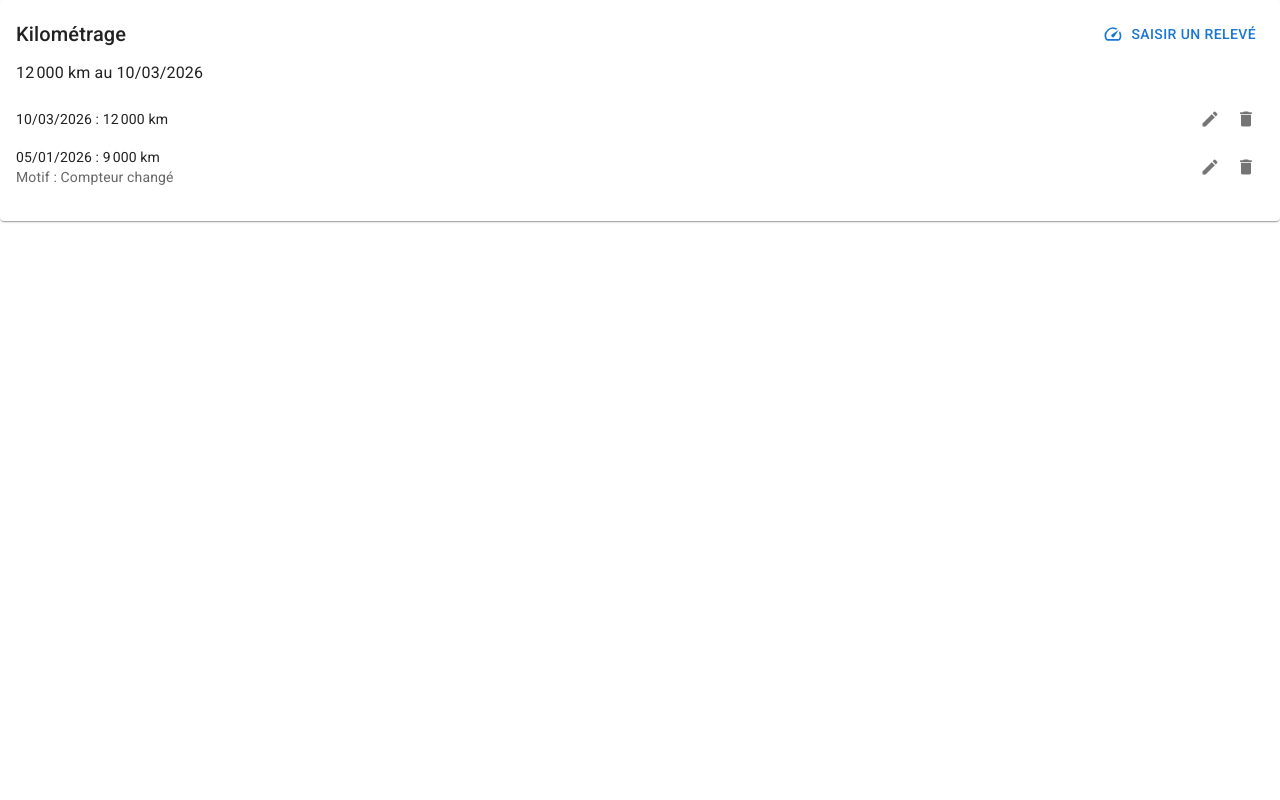
Test: VehicleMileage : correction des relevés › exige un motif en modification quand l'API le demande
Step 1. Click the button named "Modifier le relevé du 10/03/2026" → {"x": 1210, "y": 118}, box [1192,100,1228,136]
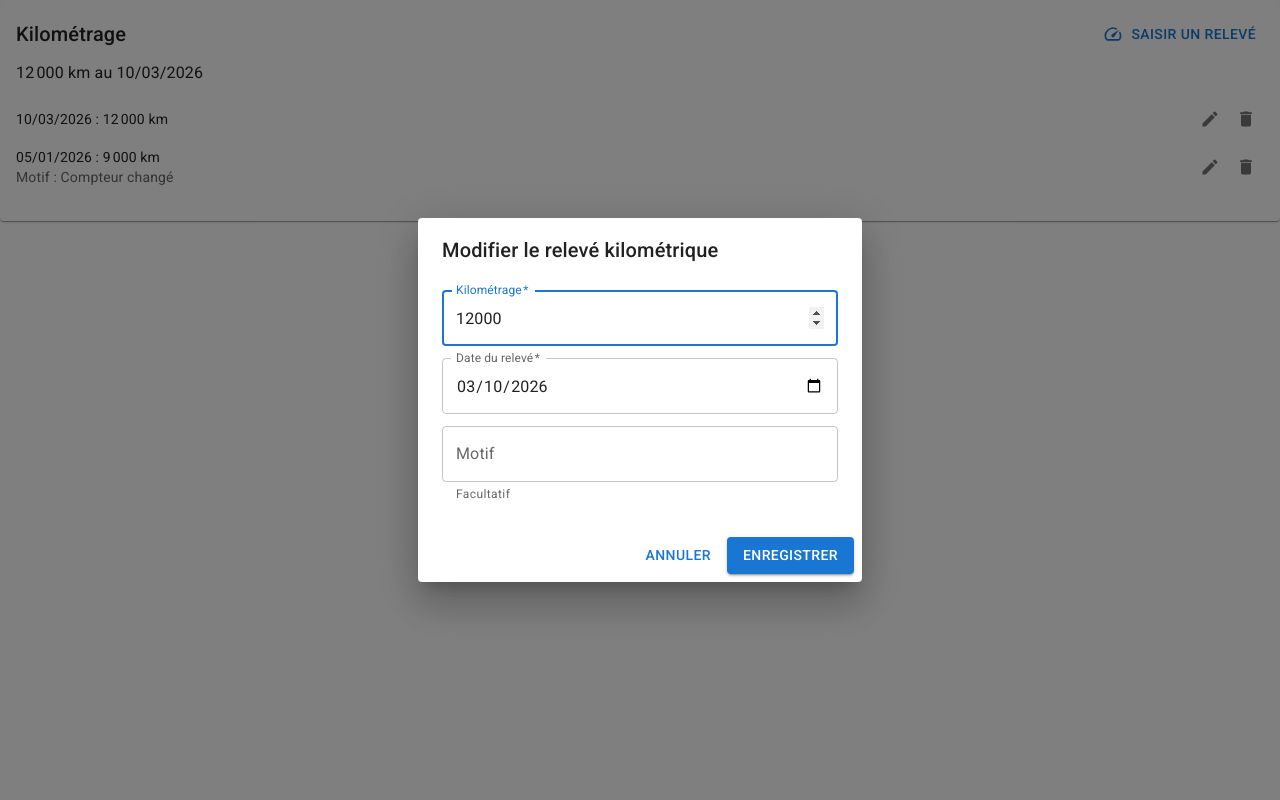
Step 2. Replace the text in the number field labelled "Kilométrage *" with "100" → {"x": 640, "y": 318}, box [442,290,838,346]
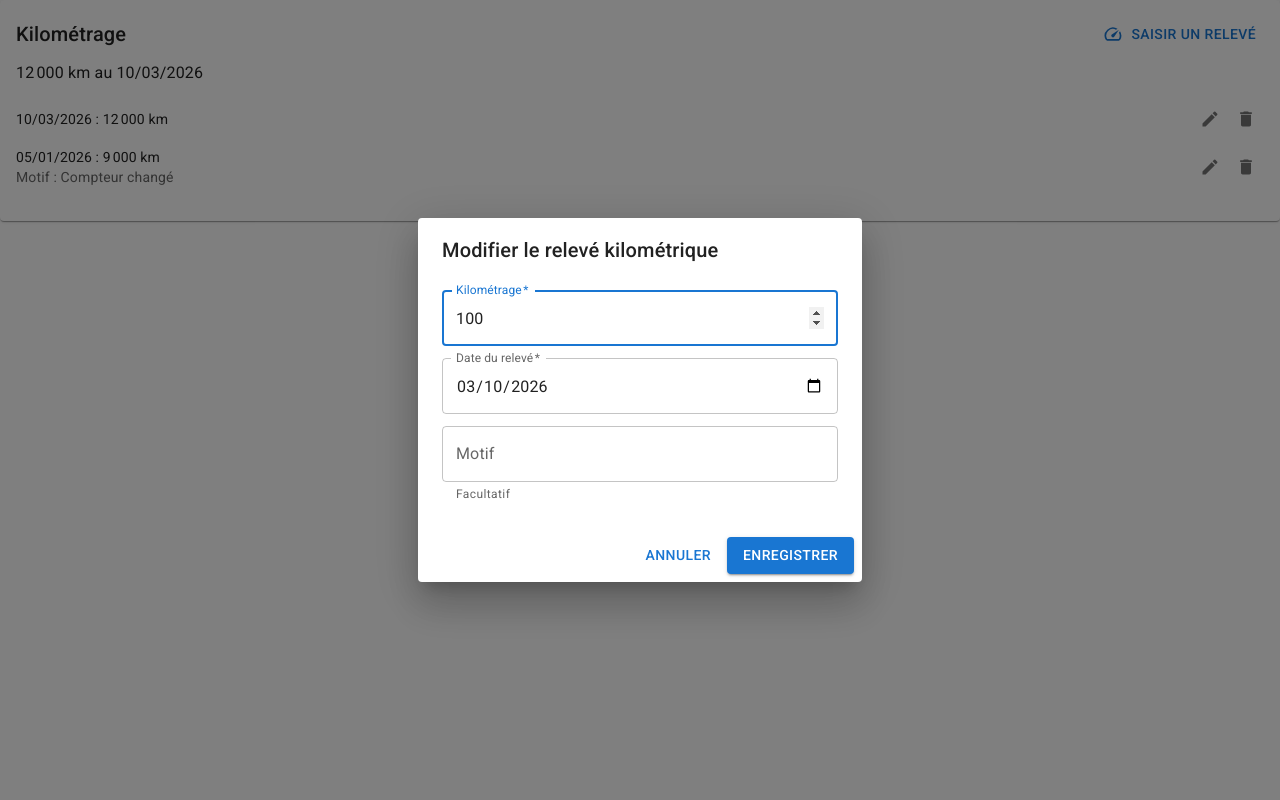
Step 3. Click the button "Enregistrer" → {"x": 790, "y": 555}, box [727,537,854,574]
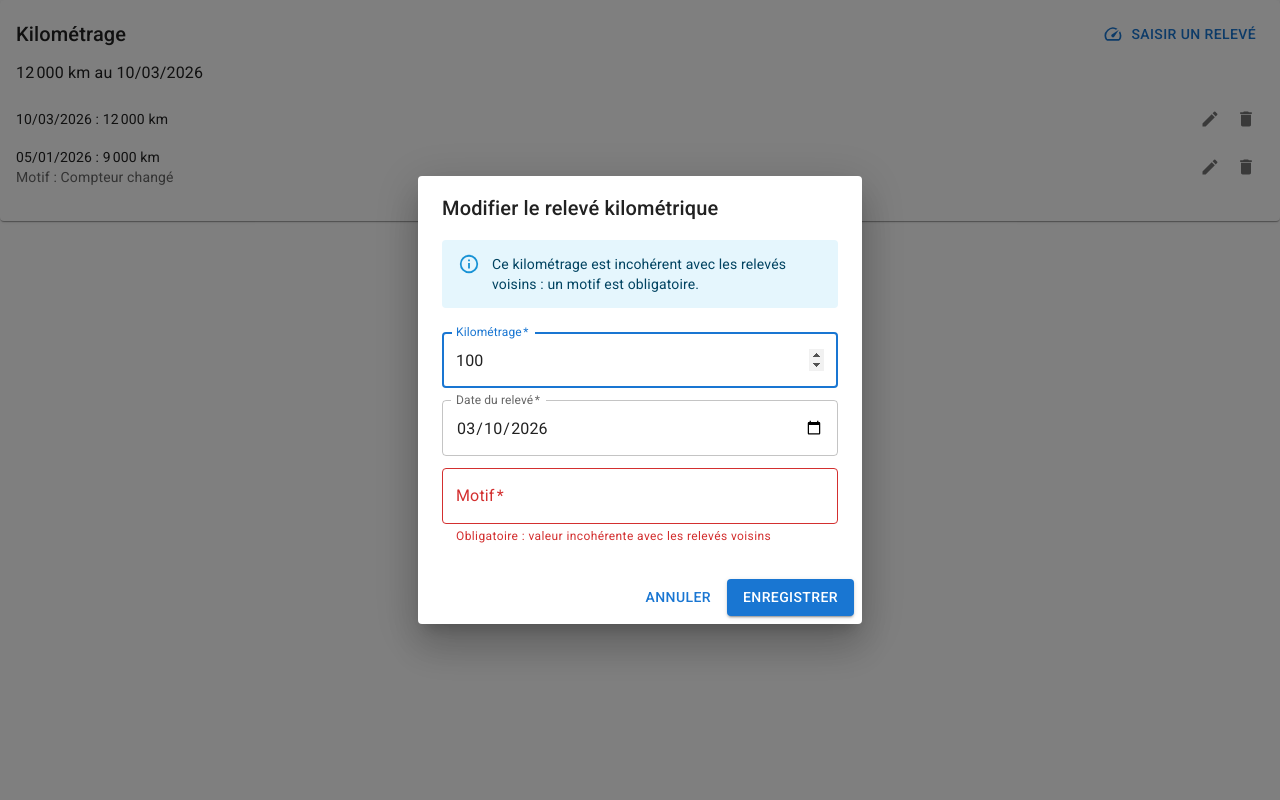
Expected: the text "un motif est obligatoire" is shown, [492,256,786,292]
